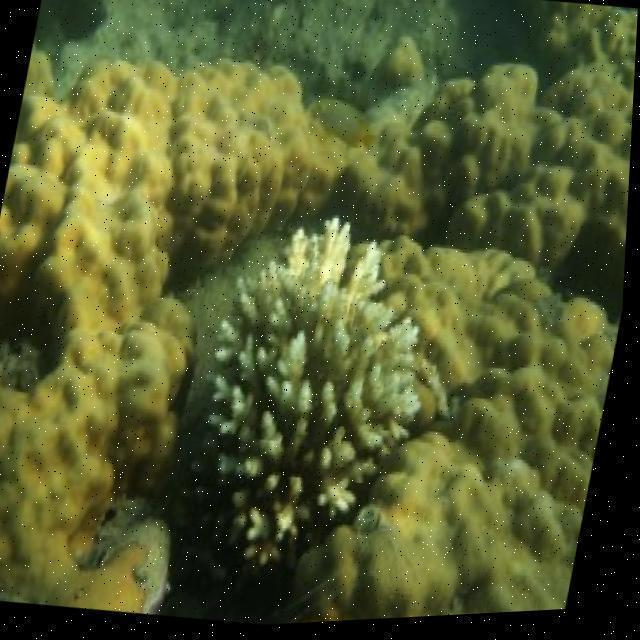Bleached Coral: (171, 195, 458, 611)
